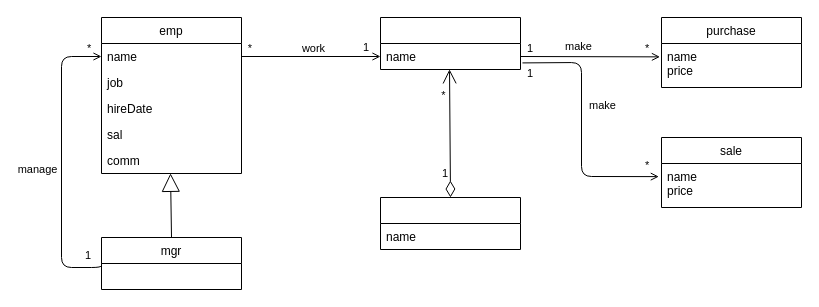
The diagram is 819 pixels wide and 307 high, and some of its shapes have lost their labels. Here are the shapes that lost their labels. From the top down, the box of each, then its label:
(380, 16, 520, 70): dept
(380, 196, 520, 250): loc
